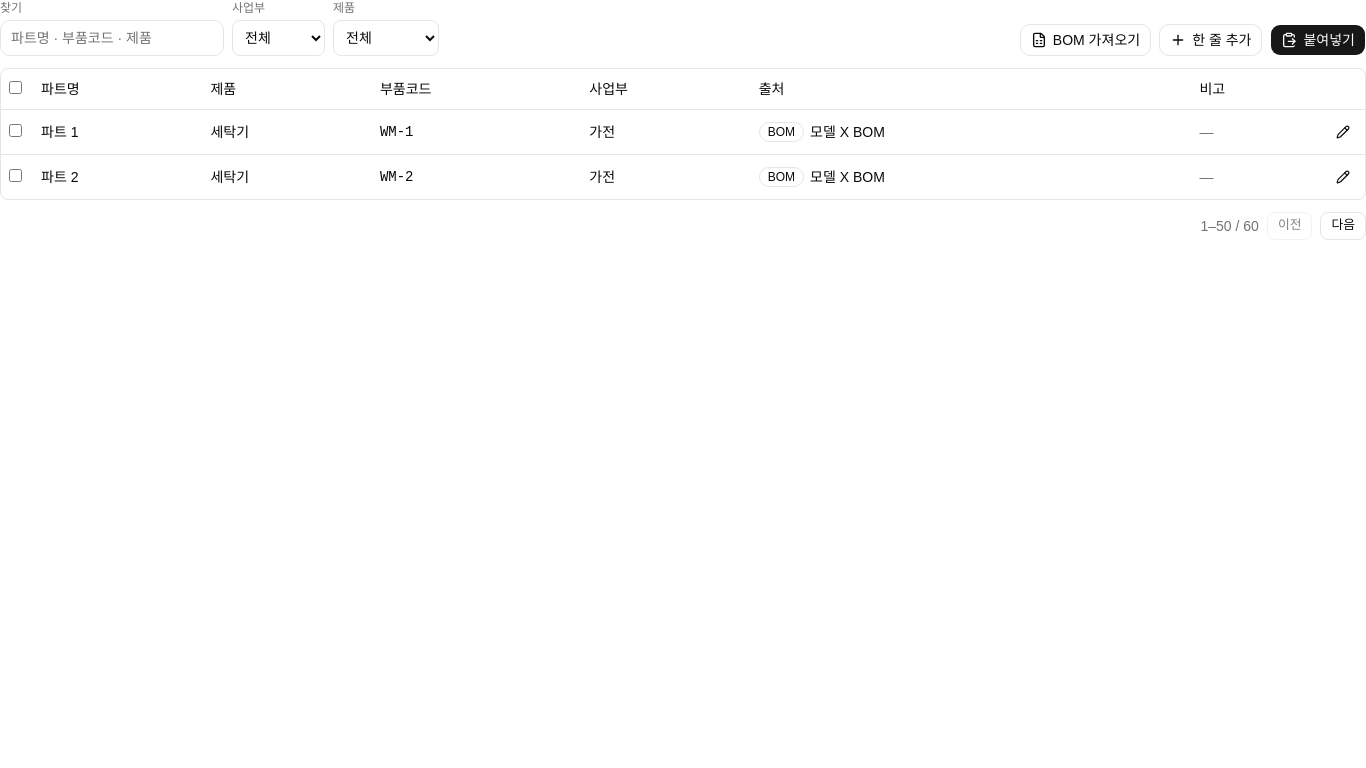
Test case: 적용 부품 탭 › 고른 줄을 지운다
Click the checkbox named "파트 1 선택": (16, 130) [9, 124, 22, 136]
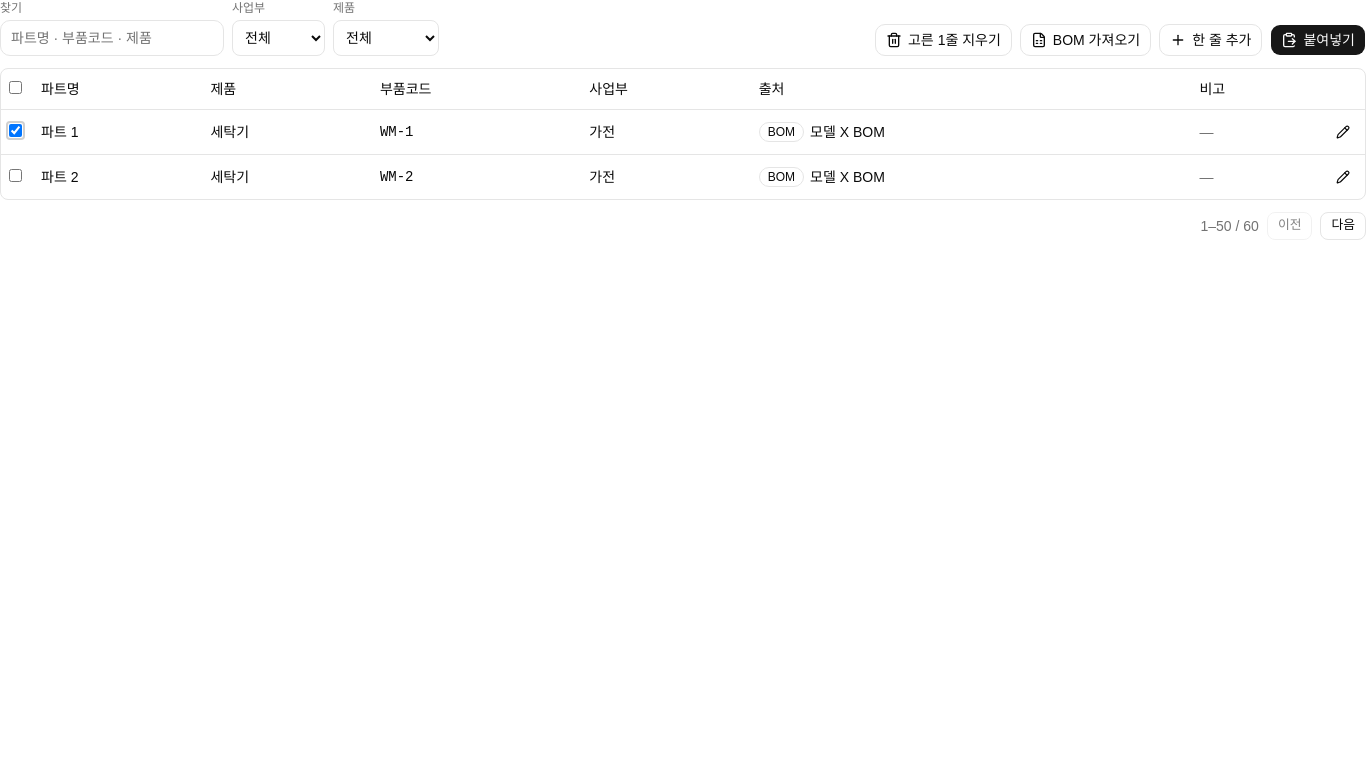
Click the button "고른 1줄 지우기": (943, 40) [875, 24, 1012, 56]
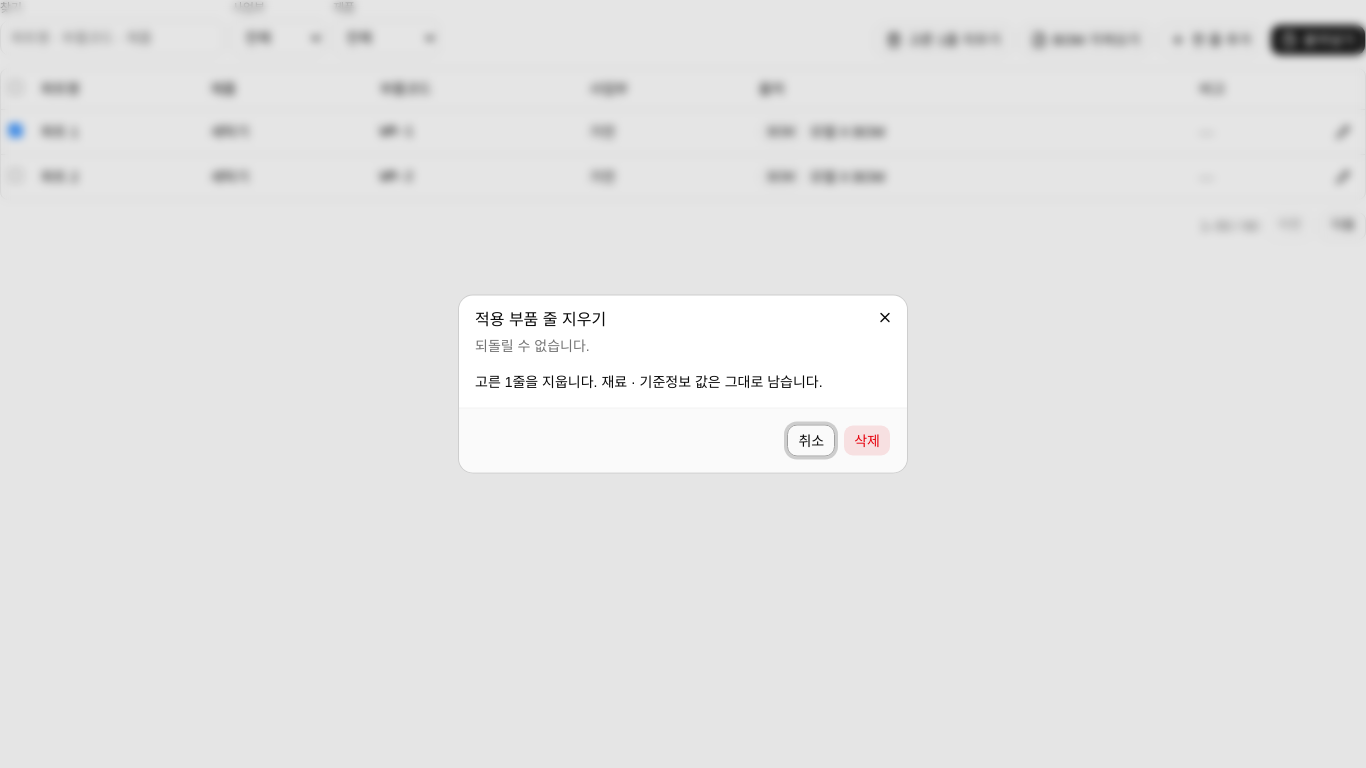
Now the dialog shows "고른 1줄을 지웁니다", box [475, 374, 823, 390]
Click the button "삭제": (867, 440) [843, 424, 891, 456]
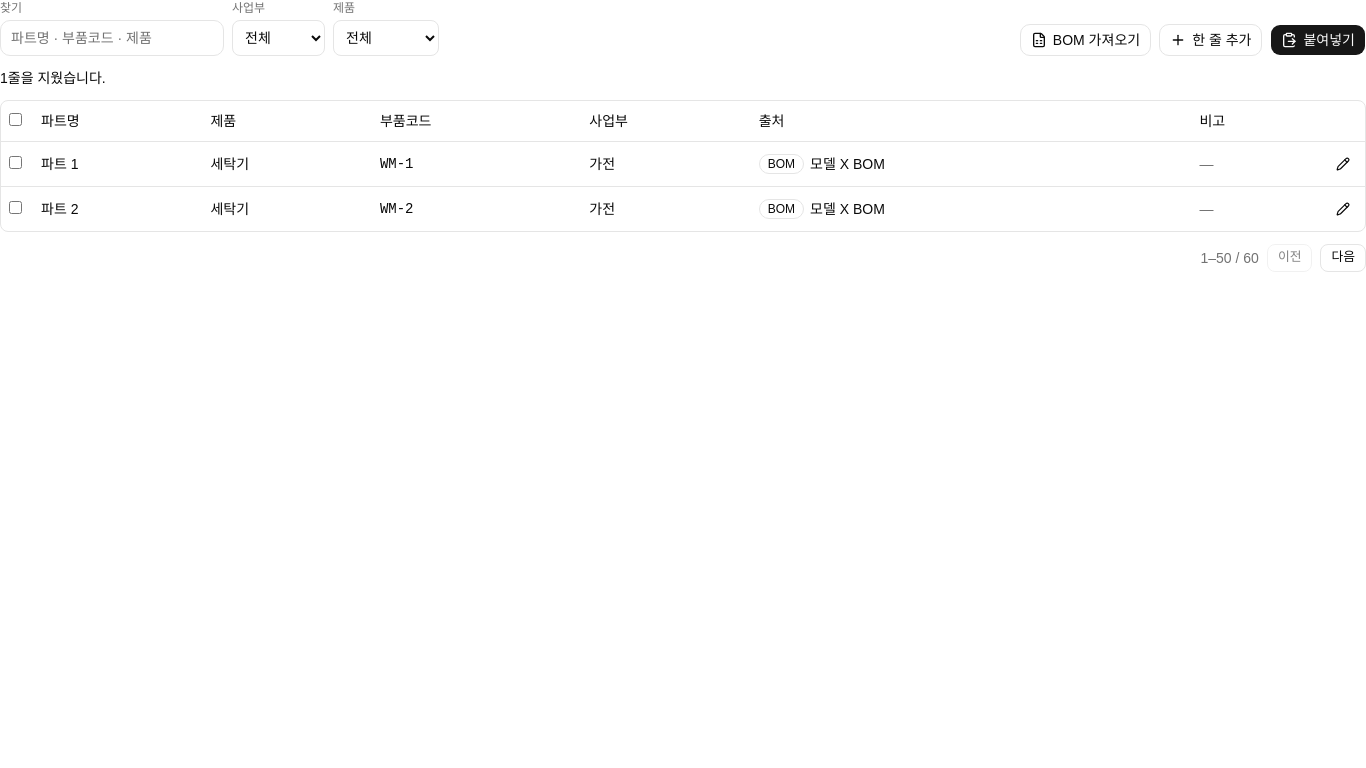
Now the text "1줄을 지웠습니다." is shown, box [0, 70, 106, 86]
